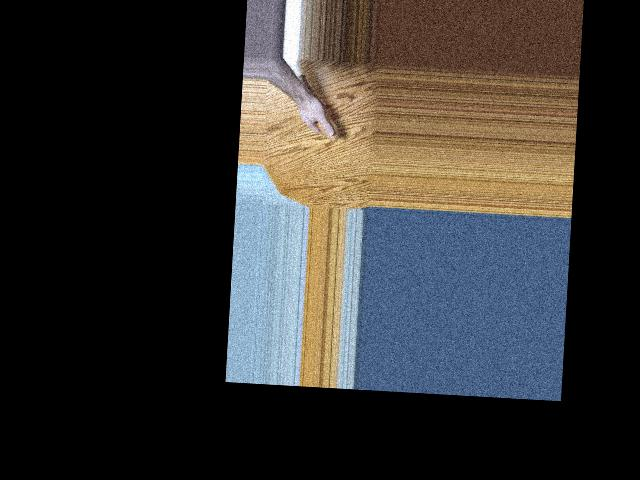sweet_potato: (293, 72, 341, 142)
